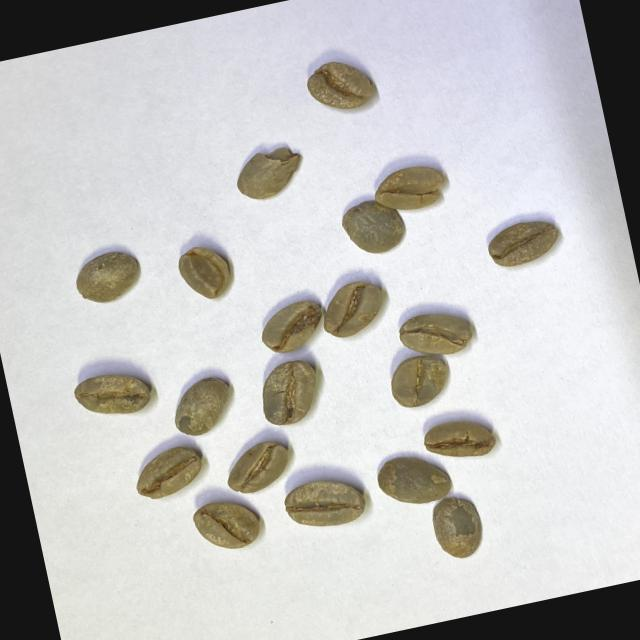bad: (230, 140, 308, 206), (371, 158, 452, 216), (130, 444, 209, 502), (419, 411, 498, 468), (254, 296, 327, 356), (174, 240, 236, 304)
good: (280, 470, 369, 536), (255, 357, 328, 430), (374, 447, 455, 512), (69, 364, 153, 424), (316, 274, 390, 342), (338, 193, 411, 260), (166, 373, 238, 440), (190, 492, 265, 556), (302, 53, 376, 117), (220, 434, 296, 496), (70, 246, 146, 308), (395, 305, 476, 363), (482, 213, 564, 270), (426, 491, 489, 564), (384, 348, 454, 412)
